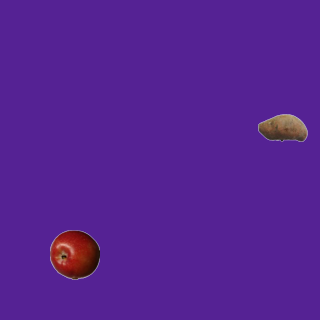Apple Braeburn: (49, 229, 99, 279)
Potato Sweet: (257, 102, 307, 152)
